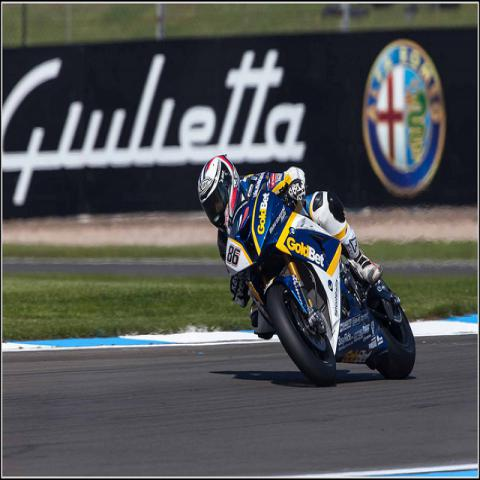motorcycle: (227, 177, 416, 386)
